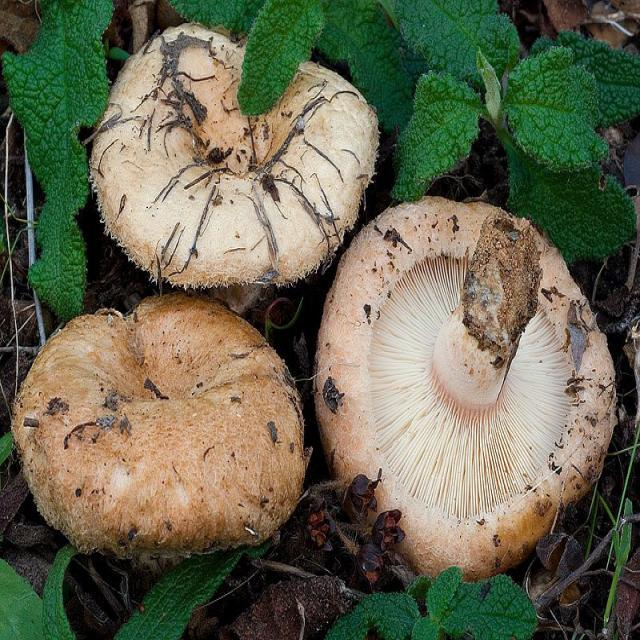Armillaria mellea: (316, 196, 617, 578), (13, 298, 308, 565), (90, 24, 378, 289)
